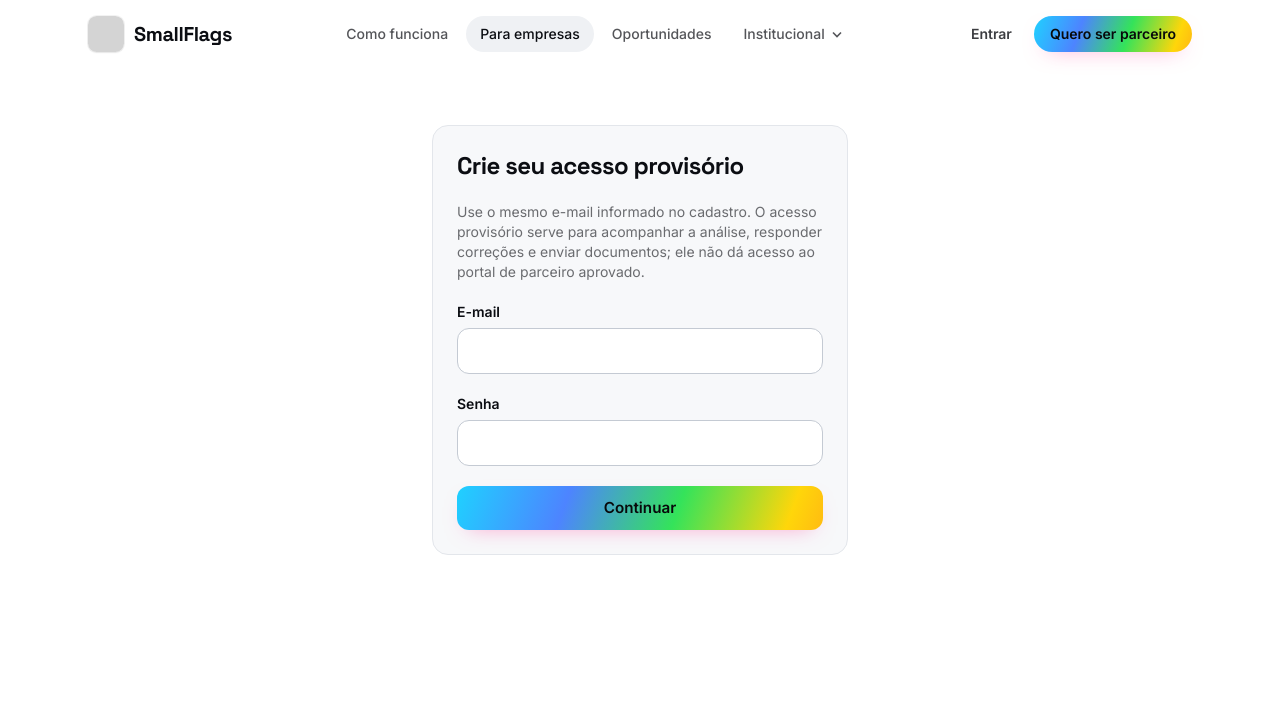
Scenario: D — wrapper responde acceptance_stale › recarrega, limpa o aceite e NAO tenta o claim
Type "contato@teste.com.br" into the field labelled "E-mail" at {"x": 640, "y": 351}, box x1=457 y1=328 x2=823 y2=374
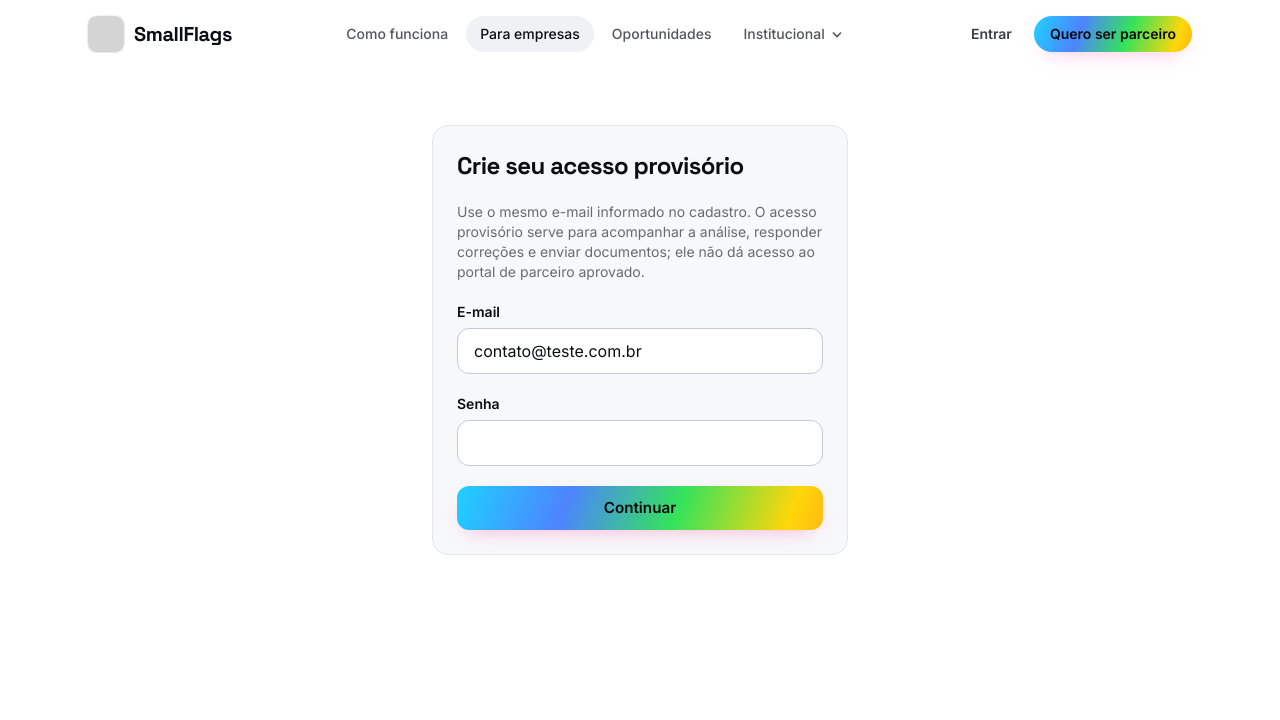
Type "senha-forte-1" into the password field labelled "Senha" at {"x": 640, "y": 443}, box x1=457 y1=420 x2=823 y2=466
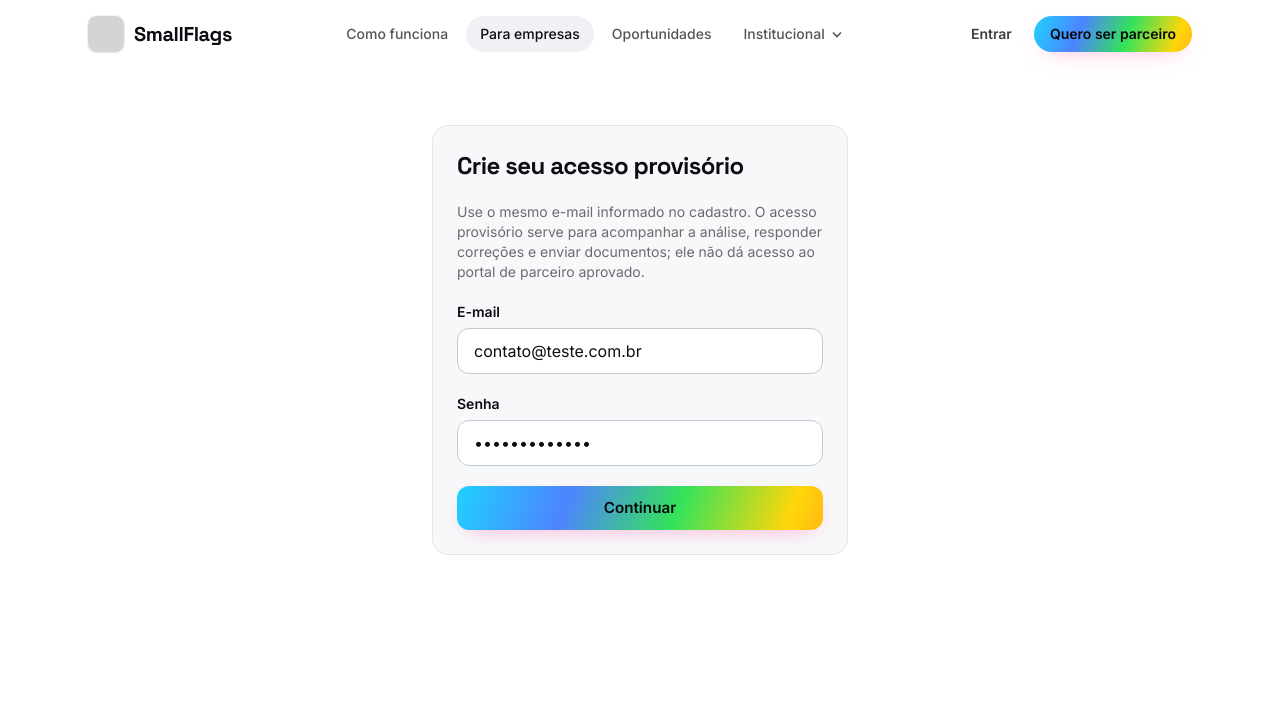
Click the button "Continuar" at {"x": 640, "y": 508}, box x1=457 y1=486 x2=823 y2=530
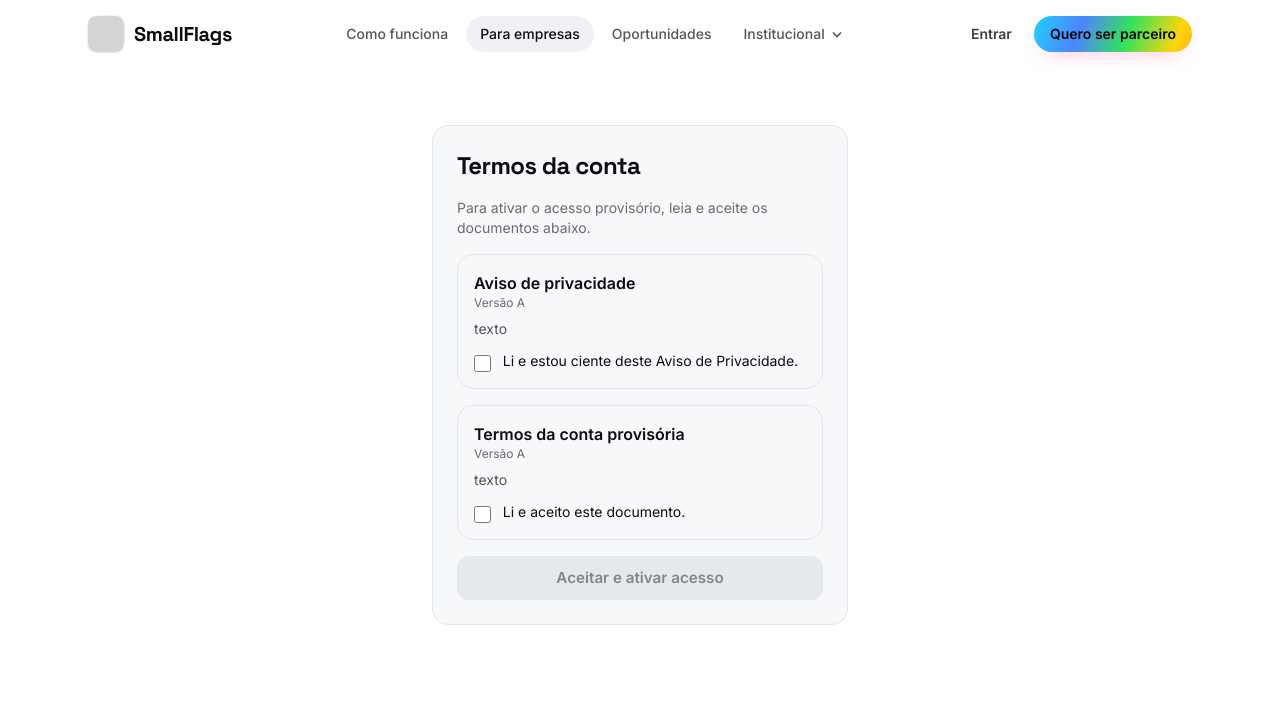
Result: the checkbox named "ciente: aviso de privacidade" is shown
Click the checkbox named "ciente: aviso de privacidade" at {"x": 482, "y": 363}, box x1=474 y1=355 x2=491 y2=372
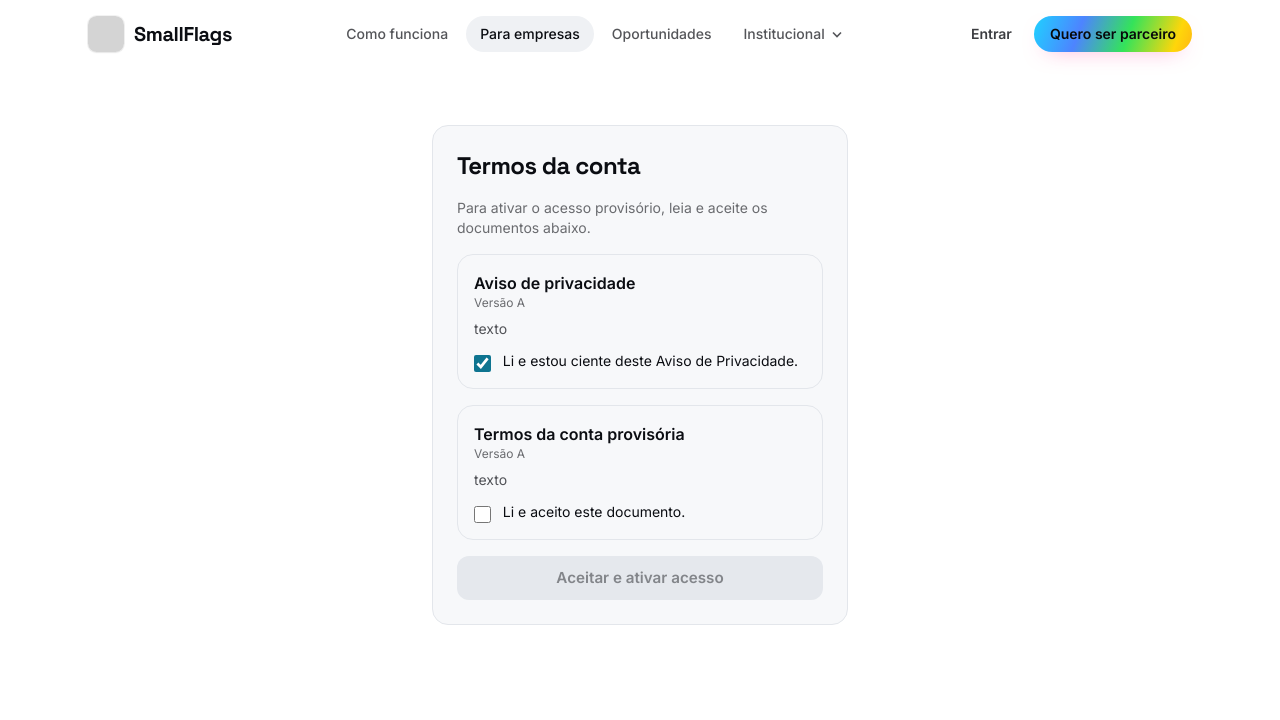
Click the checkbox named "aceito: termos da conta" at {"x": 482, "y": 514}, box x1=474 y1=506 x2=491 y2=523
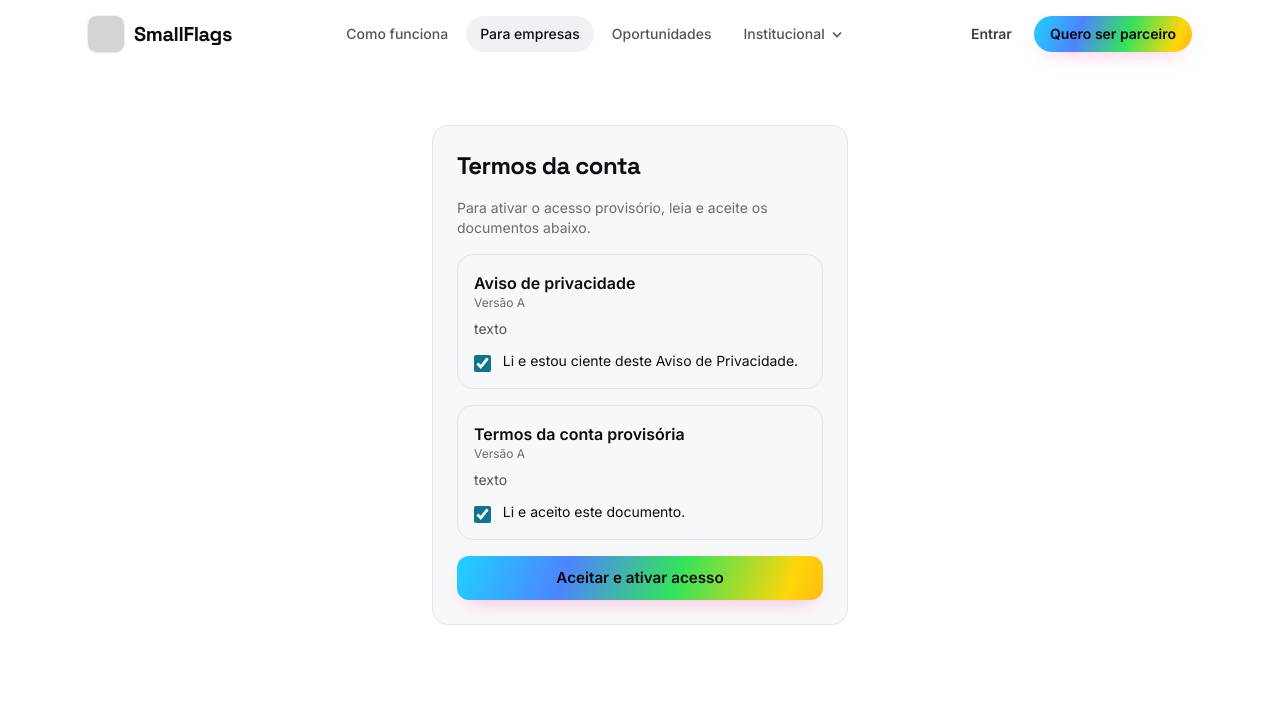
Click the button "Aceitar e ativar acesso" at {"x": 640, "y": 578}, box x1=457 y1=556 x2=823 y2=600
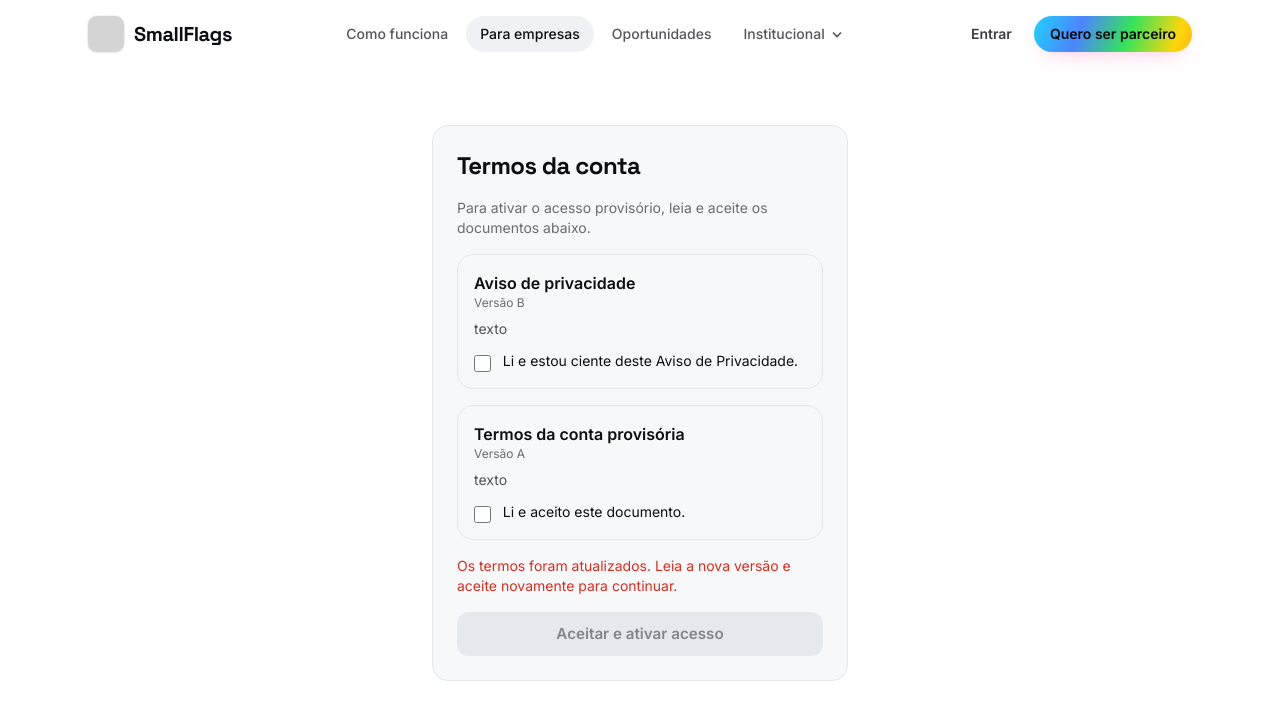
Result: the text "termos foram atualizados" is shown at x1=457 y1=557 x2=791 y2=594
Result: the text "Versão B" is shown at x1=474 y1=295 x2=525 y2=310
Result: the checkbox labelled "Li e estou ciente deste Aviso de Privacidade." is not checked at x1=474 y1=355 x2=491 y2=372
